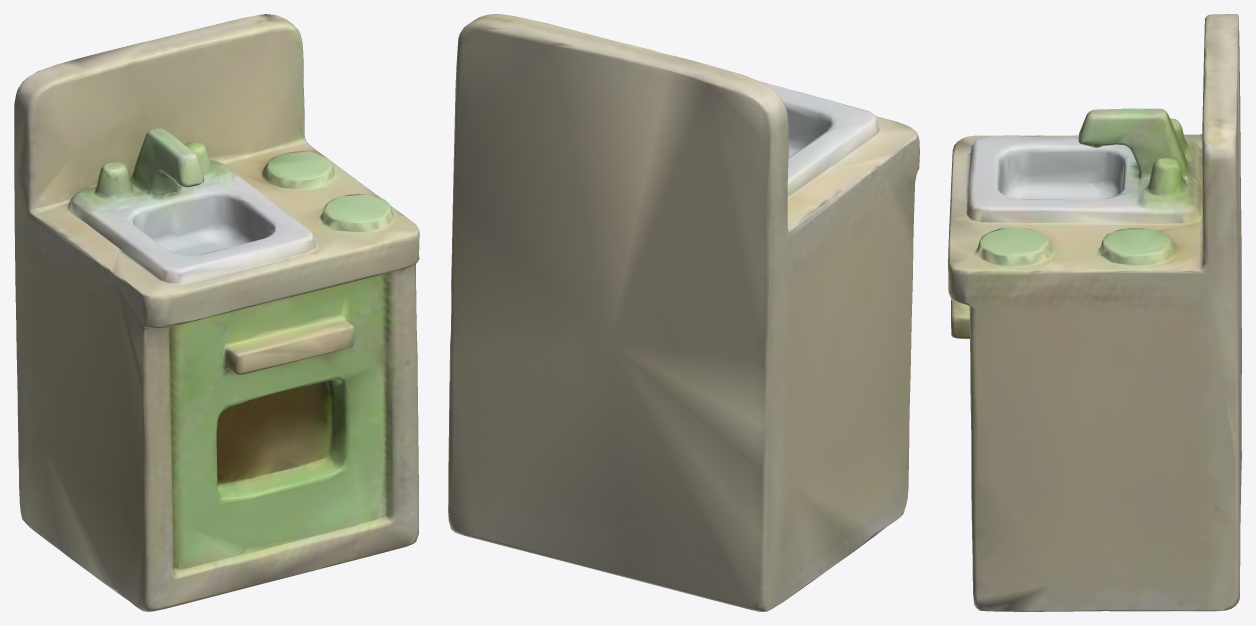
The model's file is 3D_Dollhouse_Sink-high.glb.
3 views of the same model, side by side, from view 1: azimuth 30°, elevation 25°; view 2: azimuth 150°, elevation 25°; view 3: azimuth 270°, elevation 25° (orthographic). The views are drawn at different scales.
Parts seen in each view (by area): view 1: 3D_Dollhouse_Sink; view 2: 3D_Dollhouse_Sink; view 3: 3D_Dollhouse_Sink.
Part boxes in pixels (box(x1,y1,x2,y2)): 3D_Dollhouse_Sink: box(14, 14, 419, 611); 3D_Dollhouse_Sink: box(448, 14, 919, 611); 3D_Dollhouse_Sink: box(948, 14, 1241, 611).
Size of the model in its own units: 0.0854 by 0.131 by 0.0734.
Materials: 1 (1 with a texture image).
